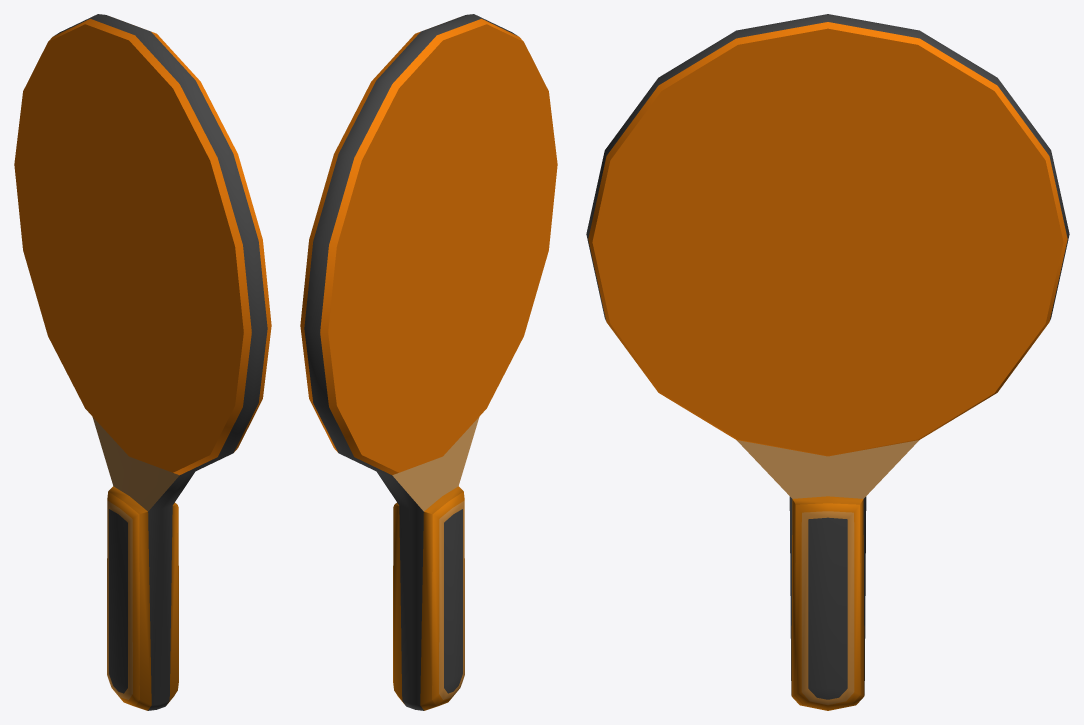
The model's file is Ping Pong Racket02.fbx.
3 views of the same model, side by side, from view 1: azimuth 30°, elevation 25°; view 2: azimuth 150°, elevation 25°; view 3: azimuth 270°, elevation 25° (orthographic). The views are drawn at different scales.
Parts seen in each view (by area): view 1: Ping Pong Racket02; view 2: Ping Pong Racket02; view 3: Ping Pong Racket02.
Part boxes in pixels (x1=…): Ping Pong Racket02: x1=14, y1=14, x2=271, y2=710; Ping Pong Racket02: x1=300, y1=14, x2=557, y2=710; Ping Pong Racket02: x1=586, y1=14, x2=1069, y2=710.
Bounding box in the file's own units: 0.0168 × 0.1397 × 0.2207.
